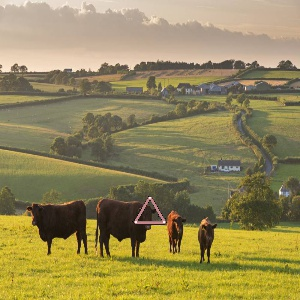triangle: (132, 193, 168, 227)
